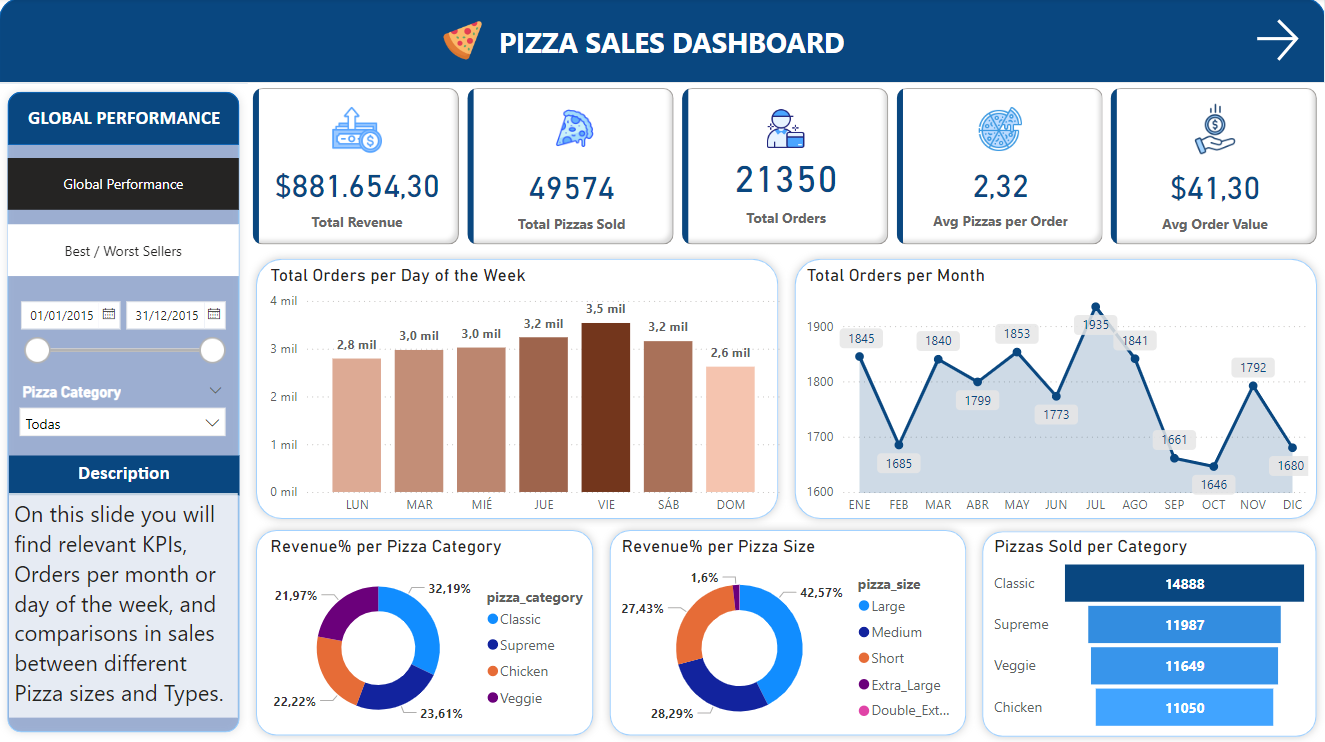

The dashboard page shown, as its layout file describes it:
{"tool":"powerbi","page":{"name":"Global Performance","canvas":[1280,720],"ordinal":0},"visuals":[{"type":"shape","box":[0,0,1280.3,82.3],"z":0},{"type":"textbox","box":[448.7,19.2,400.7,49.4],"z":1000},{"type":"image","box":[424,16.5,48,48],"z":2000},{"type":"shape","box":[240,244.3,520,267.1],"z":3000},{"type":"columnChart","title":"Total Orders per Day of the Week","fields":{"Category":["pizza_sales.Order_Day"],"Y":["pizza_sales.Total_Orders"]},"box":[257.1,257.1,502.9,250],"z":4000},{"type":"shape","box":[760,244.3,520,267.1],"z":5000},{"type":"areaChart","title":"Total Orders per Month","fields":{"Category":["pizza_sales.Order_Month"],"Y":["pizza_sales.Total_Orders"]},"box":[774.3,257.1,494.3,250],"z":6000},{"type":"shape","box":[240,505.7,341.4,214.3],"z":7000},{"type":"shape","box":[581.4,505.7,360,214.3],"z":8000},{"type":"shape","box":[941.4,507.1,338.6,214.3],"z":9000},{"type":"donutChart","title":"Revenue% per Pizza Category","fields":{"Category":["pizza_sales.pizza_category"],"Y":["pizza_sales.Total_Revenue"]},"box":[257.1,518.6,318.6,198.6],"z":10000},{"type":"donutChart","title":"Revenue% per Pizza Size","fields":{"Y":["pizza_sales.Total_Revenue"],"Category":["pizza_sales.pizza_size"]},"box":[595.7,518.6,335.7,198.6],"z":11000},{"type":"funnel","title":"Pizzas Sold per Category","fields":{"Category":["pizza_sales.pizza_category"],"Y":["pizza_sales.Total_Pizzas_Sold"]},"box":[955.7,518.6,314.3,192.9],"z":12000},{"type":"actionButton","box":[1207.1,11.4,51.4,60],"z":18000},{"type":"cardVisual","fields":{"Data":["pizza_sales.Total_Revenue","pizza_sales.Total_Pizzas_Sold","pizza_sales.Total_Orders","pizza_sales.Avg_Pizza_Per_Order","pizza_sales.Avg_Order_Value"]},"box":[240,81.8,1040,161.8],"z":19000},{"type":"shape","box":[0,83.2,240.1,633.4],"z":19001},{"type":"shape","box":[8.5,91,223.5,51.5],"z":19002},{"type":"textbox","box":[10,441,222,38],"z":19003},{"type":"textbox","box":[10,478,221,217],"z":19004},{"type":"slicer","fields":{"Values":["pizza_sales.pizza_category"]},"box":[10,367.1,218.6,64.3],"z":19005},{"type":"slicer","fields":{"Values":["pizza_sales.order_date"]},"box":[8.6,282.9,218.6,82.9],"z":19006},{"type":"pageNavigator","box":[8.5,153.8,223.8,50],"z":19007},{"type":"pageNavigator","box":[8.5,218.5,223.8,50],"z":19008},{"type":"textbox","box":[10,98.8,222.5,36.2],"z":19009}]}

Visuals, with their boxes in screenshot pixels (x1, y1, x2, y2), scaled from the page's 1280x720 canvas onto the 1325x742 screenshot:
shape: rect(0, 0, 1324, 85)
textbox: rect(464, 20, 879, 71)
image: rect(439, 17, 489, 66)
shape: rect(248, 252, 787, 527)
"Total Orders per Day of the Week" columnChart: rect(266, 265, 787, 523)
shape: rect(787, 252, 1324, 527)
"Total Orders per Month" areaChart: rect(802, 265, 1313, 523)
shape: rect(248, 521, 602, 741)
shape: rect(602, 521, 974, 741)
shape: rect(974, 523, 1324, 741)
"Revenue% per Pizza Category" donutChart: rect(266, 534, 596, 739)
"Revenue% per Pizza Size" donutChart: rect(617, 534, 964, 739)
"Pizzas Sold per Category" funnel: rect(989, 534, 1315, 733)
actionButton: rect(1250, 12, 1303, 74)
cardVisual - pizza_sales.Total_Revenue x pizza_sales.Total_Pizzas_Sold: rect(248, 84, 1324, 251)
shape: rect(0, 86, 249, 738)
shape: rect(9, 94, 240, 147)
textbox: rect(10, 454, 240, 494)
textbox: rect(10, 493, 239, 716)
slicer - pizza_sales.pizza_category: rect(10, 378, 237, 445)
slicer - pizza_sales.order_date: rect(9, 292, 235, 377)
pageNavigator: rect(9, 158, 240, 210)
pageNavigator: rect(9, 225, 240, 277)
textbox: rect(10, 102, 241, 139)
